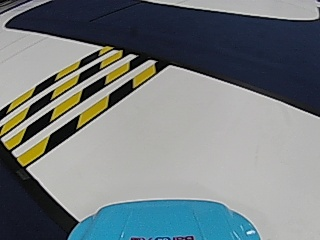bump: (6, 58, 119, 149)
